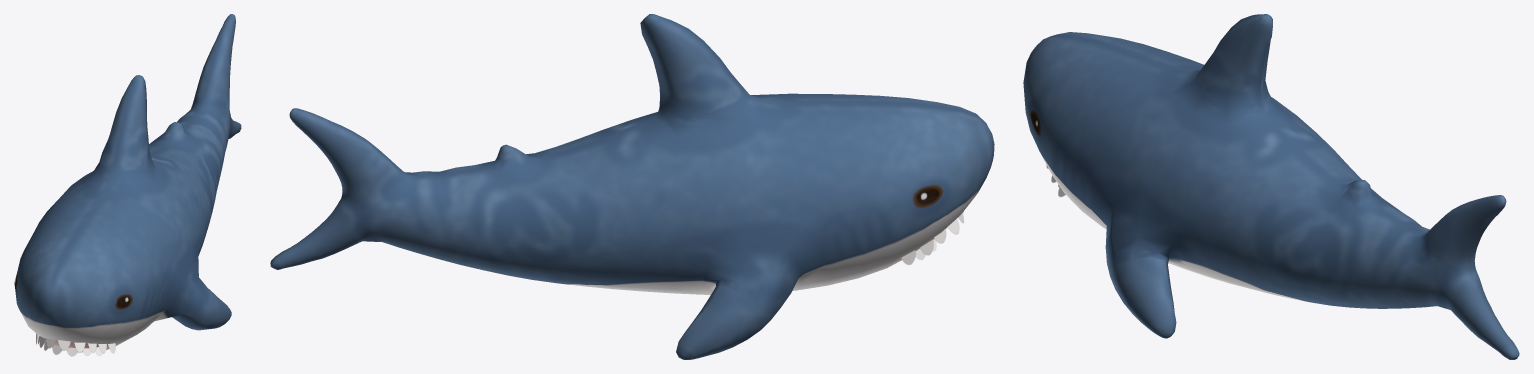
The picture shows the model from 3 angles, left to right: view 1: azimuth 30°, elevation 25°; view 2: azimuth 150°, elevation 25°; view 3: azimuth 270°, elevation 25°; orthographic projection. The views are drawn at different scales.
Visible parts, largest first — view 1: Low_poly_blahaj1; view 2: Low_poly_blahaj1; view 3: Low_poly_blahaj1.
Boxes of the visible parts, x1,y1,x2,y2 form: Low_poly_blahaj1: (14, 14, 241, 356); Low_poly_blahaj1: (270, 14, 994, 359); Low_poly_blahaj1: (1023, 14, 1519, 359).
Bounding box in the file's own units: 0.0571 × 0.0325 × 0.0499.
Materials: 2 (2 with a texture image).
